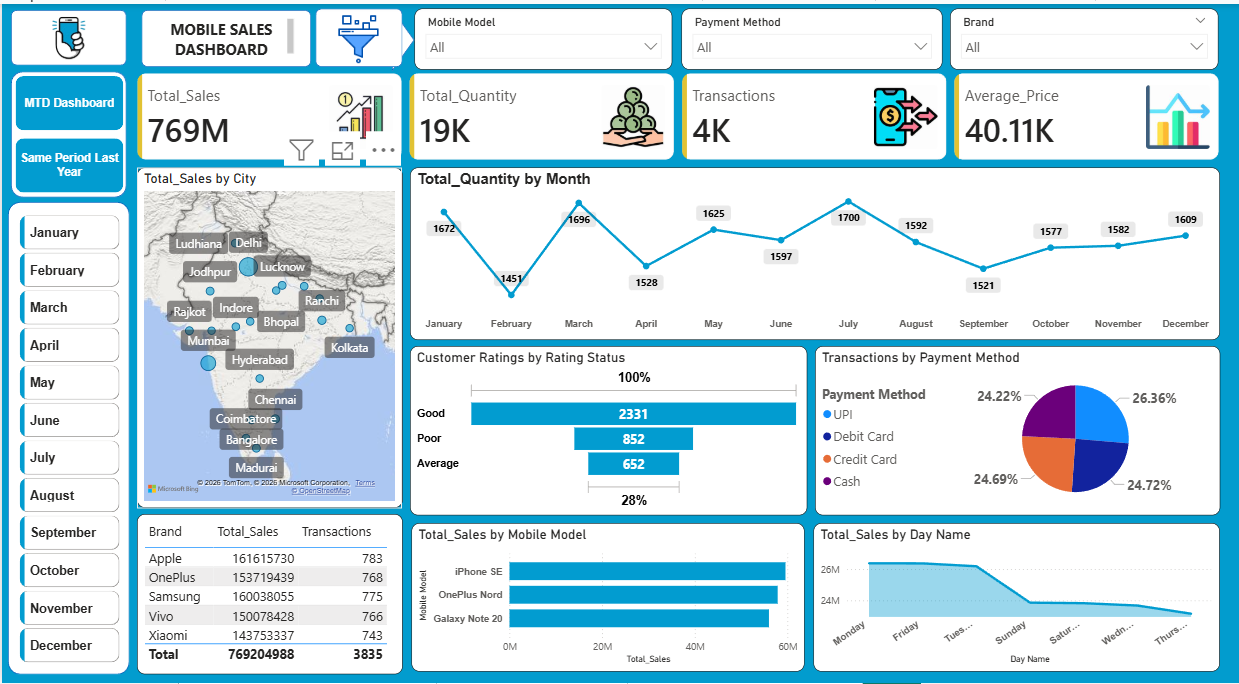

The page's visual inventory and layout, read from the dashboard file:
{"tool":"powerbi","page":{"name":"Mobile Sales Dashboard","canvas":[1550,850],"ordinal":0},"visuals":[{"type":"shape","box":[11.3,7.5,144.6,69.5],"z":0},{"type":"image","box":[31.9,7.5,103.3,69.5],"z":1000},{"type":"shape","box":[11.3,84.5,144.6,157.7],"z":2000},{"type":"shape","box":[7.5,247.9,152.1,591.5],"z":3000},{"type":"advancedSlicerVisual","fields":{"Values":["Custom_Calender.Date.Variation.Date Hierarchy.Month"]},"box":[16.9,259.1,135.2,570.9],"z":4000},{"type":"cardVisual","fields":{"Data":["Mobile_sales_data.Total_Sales","Mobile_sales_data.Total_Quantity","Mobile_sales_data.Transactions","Mobile_sales_data.Average_Price"]},"box":[152.1,69.5,1389.6,142.7],"z":5000},{"type":"slicer","fields":{"Values":["Mobile_sales_data.Mobile Model"]},"box":[516.4,5.6,323,77],"z":6000},{"type":"slicer","fields":{"Values":["Mobile_sales_data.Payment Method"]},"box":[850.6,5.6,326.7,77],"z":7000},{"type":"shape","box":[460.1,5.6,56.3,78.9],"z":8000},{"type":"shape","box":[392.5,5.6,108.9,73.2],"z":9000},{"type":"slicer","fields":{"Values":["Mobile_sales_data.Brand"]},"box":[1186.8,5.6,336.1,77],"z":10000},{"type":"image","box":[390.6,13.1,110.8,62],"z":11000},{"type":"shape","box":[174.6,7.5,212.2,71.4],"z":12000},{"type":"textbox","box":[187.8,13.1,182.1,56.3],"z":13000},{"type":"map","fields":{"Category":["Mobile_sales_data.City"],"Size":["Mobile_sales_data.Total_Sales"]},"box":[169,204.7,332.4,426.3],"z":14000},{"type":"lineChart","fields":{"Y":["Mobile_sales_data.Total_Quantity"],"Category":["Custom_Calender.Date.Variation.Date Hierarchy.Month"]},"box":[510.8,204.7,1014,215.9],"z":15000},{"type":"funnel","title":" Customer Ratings by Rating Status","fields":{"Y":["CountNonNull(Mobile_sales_data.Customer Ratings)"],"Category":["Mobile_sales_data.Rating Status"]},"box":[510.8,428.1,497.6,212.2],"z":16000},{"type":"pieChart","fields":{"Category":["Mobile_sales_data.Payment Method"],"Y":["Mobile_sales_data.Transactions"]},"box":[1017.8,428.1,507,212.2],"z":17000},{"type":"clusteredBarChart","fields":{"Category":["Mobile_sales_data.Mobile Model"],"Y":["Mobile_sales_data.Total_Sales"]},"box":[512.6,649.7,492,185.9],"z":18000},{"type":"areaChart","fields":{"Y":["Mobile_sales_data.Total_Sales"],"Category":["Custom_Calender.Day Name"]},"box":[1015.9,649.7,508.9,185.9],"z":19000},{"type":"tableEx","fields":{"Values":["Mobile_sales_data.Brand","Mobile_sales_data.Total_Sales","Mobile_sales_data.Transactions"]},"box":[169,638.5,332.4,200.9],"z":20000},{"type":"pageNavigator","box":[16.9,90.1,135.2,146.5],"z":21000}]}

Visuals, with their boxes in screenshot pixels (x1, y1, x2, y2), scaled from the page's 1550x850 canvas onto the 1239x684 screenshot:
shape: 9,6,125,62
image: 25,6,108,62
shape: 9,68,125,195
shape: 6,199,128,675
advancedSlicerVisual - Custom_Calender.Date.Variation.Date Hierarchy.Month: 14,208,122,668
cardVisual - Mobile_sales_data.Total_Sales x Mobile_sales_data.Total_Quantity: 122,56,1232,171
slicer - Mobile_sales_data.Mobile Model: 413,5,671,66
slicer - Mobile_sales_data.Payment Method: 680,5,941,66
shape: 368,5,413,68
shape: 314,5,401,63
slicer - Mobile_sales_data.Brand: 949,5,1217,66
image: 312,11,401,60
shape: 140,6,309,63
textbox: 150,11,296,56
map - Mobile_sales_data.City x Mobile_sales_data.Total_Sales: 135,165,401,508
lineChart - Mobile_sales_data.Total_Quantity x Custom_Calender.Date.Variation.Date Hierarchy.Month: 408,165,1219,338
" Customer Ratings by Rating Status" funnel: 408,344,806,515
pieChart - Mobile_sales_data.Payment Method x Mobile_sales_data.Transactions: 814,344,1219,515
clusteredBarChart - Mobile_sales_data.Mobile Model x Mobile_sales_data.Total_Sales: 410,523,803,672
areaChart - Mobile_sales_data.Total_Sales x Custom_Calender.Day Name: 812,523,1219,672
tableEx - Mobile_sales_data.Brand x Mobile_sales_data.Total_Sales: 135,514,401,675
pageNavigator: 14,73,122,190
